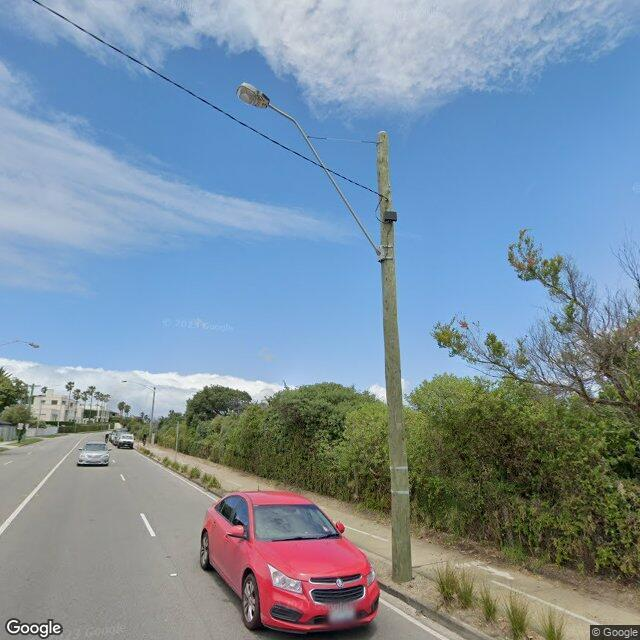crossarm: (28, 385, 40, 387)
streetlight: (236, 82, 384, 262), (122, 381, 154, 392), (0, 341, 40, 348)
timber-pole: (377, 132, 412, 584), (150, 387, 156, 435), (29, 384, 35, 414)
